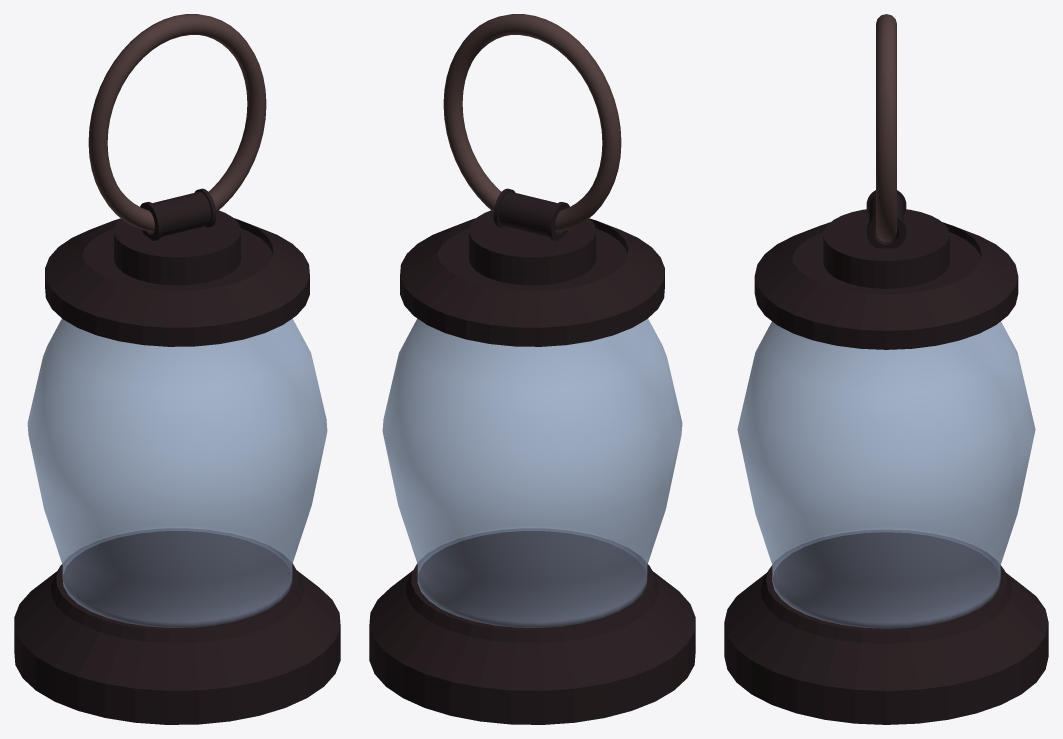
File: lantern.fbx
3 views of the same model, side by side, from view 1: azimuth 30°, elevation 25°; view 2: azimuth 150°, elevation 25°; view 3: azimuth 270°, elevation 25° (orthographic).
Parts seen in each view (by area): view 1: Cylinder.003, Cylinder.002, BezierCircle; view 2: Cylinder.003, Cylinder.002, BezierCircle; view 3: Cylinder.003, Cylinder.002, BezierCircle.
Part boxes in pixels (x1,y1,x2,y2): Cylinder.003: (14,188,340,724); Cylinder.002: (27,318,327,627); BezierCircle: (88,14,266,232); Cylinder.003: (369,188,695,724); Cylinder.002: (382,318,682,627); BezierCircle: (443,14,621,232); Cylinder.003: (724,190,1048,724); Cylinder.002: (737,321,1035,628); BezierCircle: (876,14,896,242).
Size of the model in its own units: 59.57 by 129 by 59.57.
